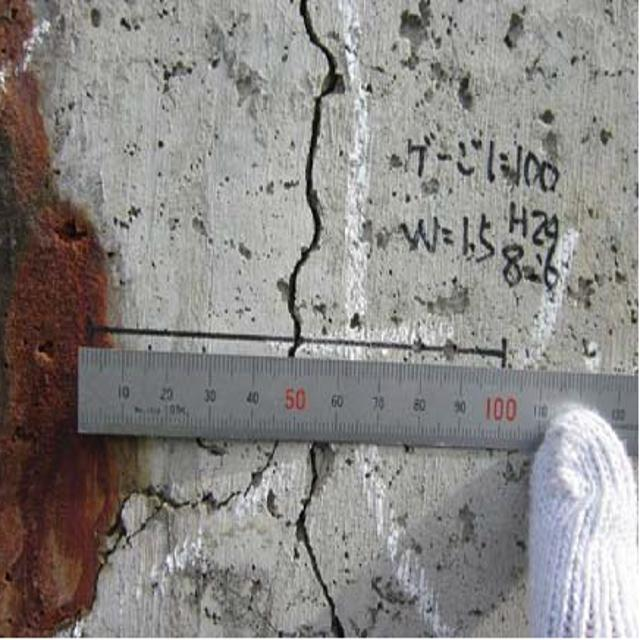crack: (81, 443, 372, 638), (280, 7, 347, 359)
